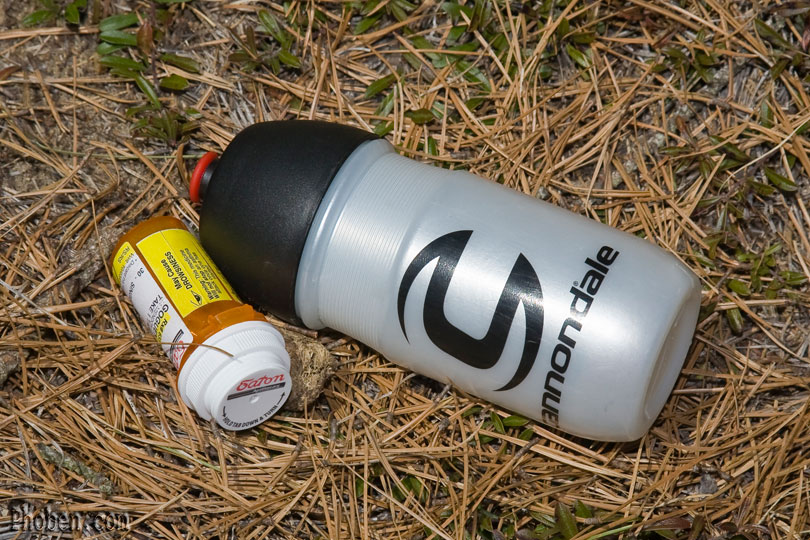pill bottle: (114, 217, 292, 435)
